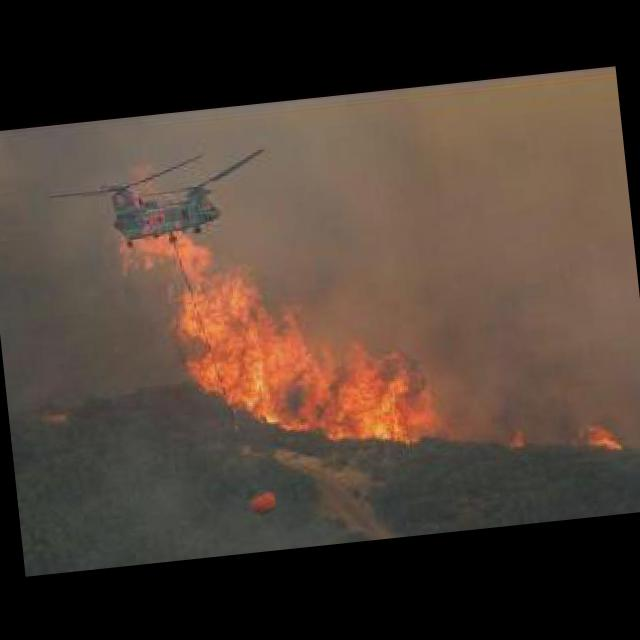Fire: (111, 198, 452, 476), (576, 417, 625, 456), (504, 425, 526, 449)
